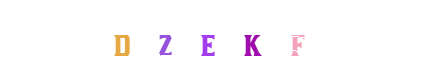D: (82, 0, 162, 80)
E: (183, 0, 263, 80)
F: (212, 0, 292, 80)
K: (211, 0, 291, 80)
Z: (153, 0, 233, 80)
